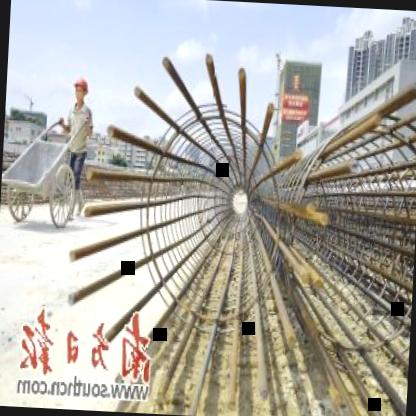helmet: (69, 74, 90, 107)
